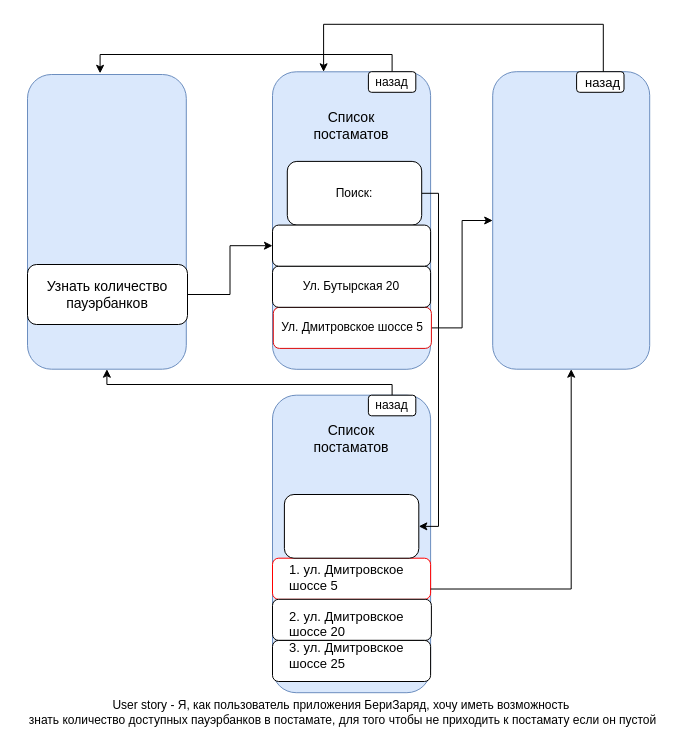
The diagram is 684 pixels wide and 750 high, and some of its shapes have lost their labels. Each missing label, with the box of its shape:
Главный экран: (26, 74, 186, 369)
Пауэрбанки по адресу ул. Дмитровское шоссе 5 Осталось - 5: (492, 71, 650, 369)
Поиск: Дмитроввское шоссе: (283, 494, 419, 558)
Ул. Бутырская 10: (272, 224, 431, 266)
